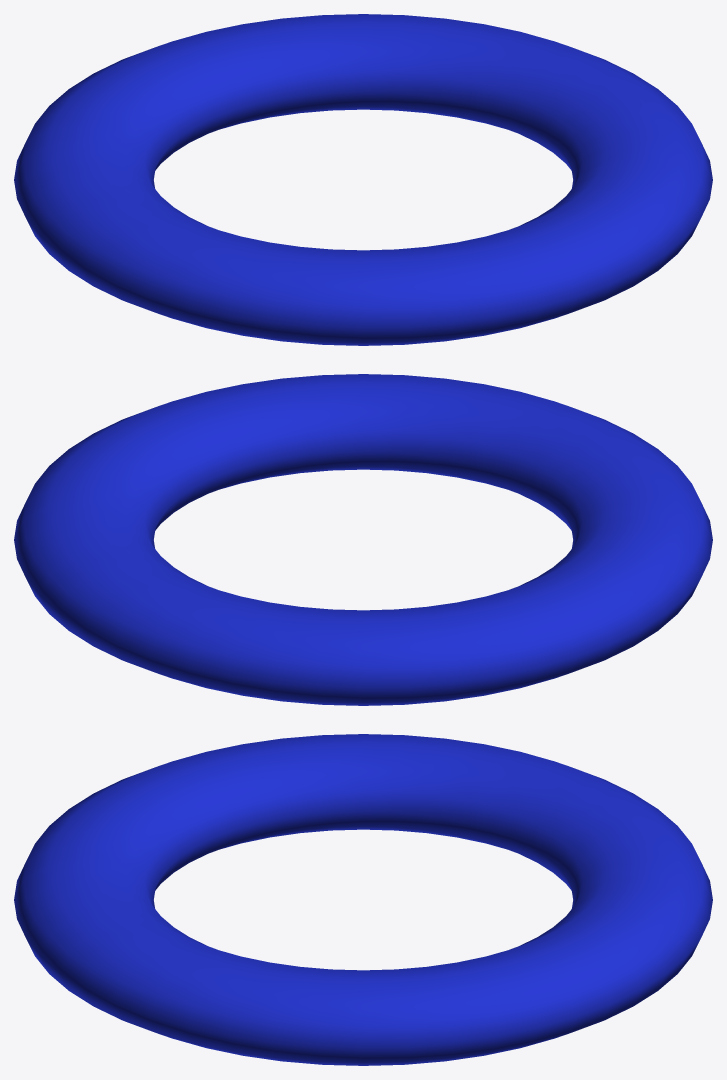
The model's file is cursor.dae.
3 renders of one model, top to bottom at view 1: azimuth 30°, elevation 25°; view 2: azimuth 150°, elevation 25°; view 3: azimuth 270°, elevation 25°, orthographic.
Visible parts, largest first — view 1: Torus; view 2: Torus; view 3: Torus.
Part boxes in pixels (box(x1,y1,x2,y2)): Torus: box(14, 14, 712, 345); Torus: box(14, 374, 712, 705); Torus: box(14, 734, 712, 1065).
Bounding box in the file's own units: 1 × 1 × 0.1205.
